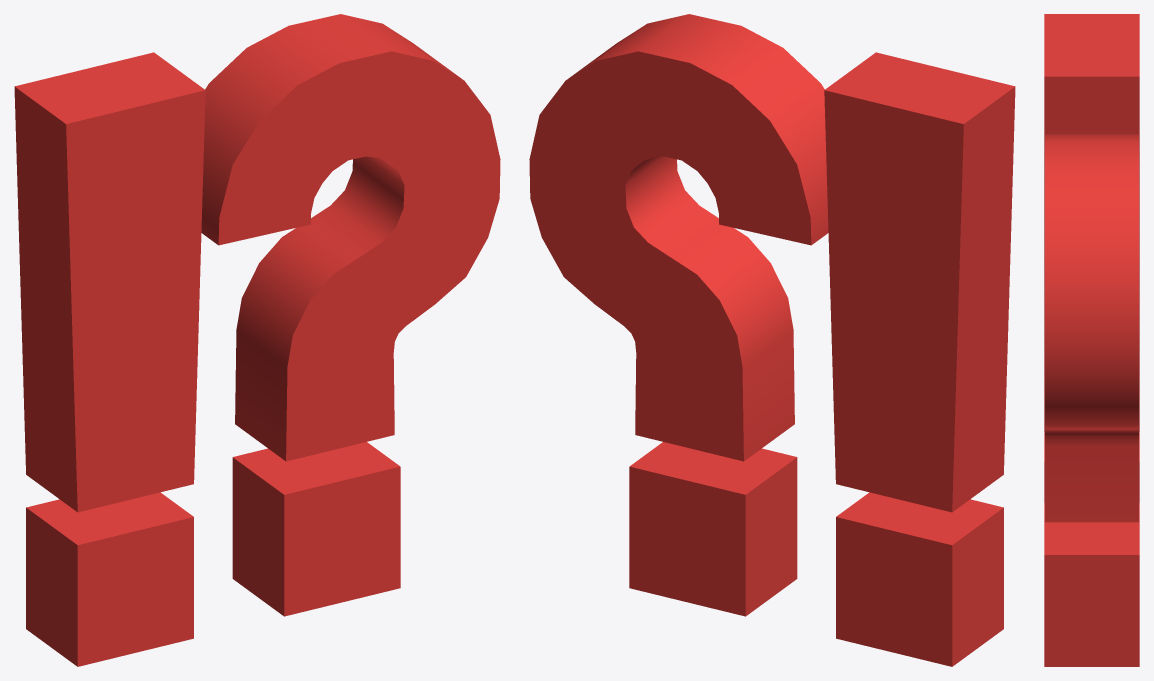
Rendered from exclamation_question_mark.glb.
3 views of the same model, side by side, from view 1: azimuth 30°, elevation 25°; view 2: azimuth 150°, elevation 25°; view 3: azimuth 270°, elevation 25° (orthographic). The views are drawn at different scales.
Visible parts, largest first — view 1: Cube.6445; view 2: Cube.6445; view 3: Cube.6445.
Part boxes in pixels (box(x1,y1,x2,y2)): Cube.6445: box(14, 14, 500, 666); Cube.6445: box(529, 14, 1015, 666); Cube.6445: box(1044, 14, 1139, 666).
Bounding box in the file's own units: 1.83 × 2.19 × 0.3762.
1 material, 1 textured.
